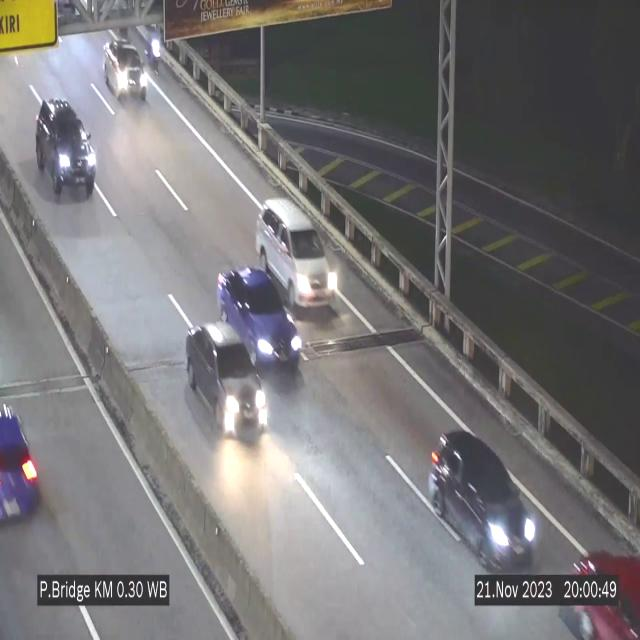Car: (428, 429, 536, 573), (188, 320, 270, 448), (216, 266, 302, 370), (255, 200, 338, 307), (0, 378, 51, 540), (36, 96, 102, 212), (562, 547, 639, 640), (103, 39, 148, 104)
Motorcycle: (145, 26, 167, 84)
